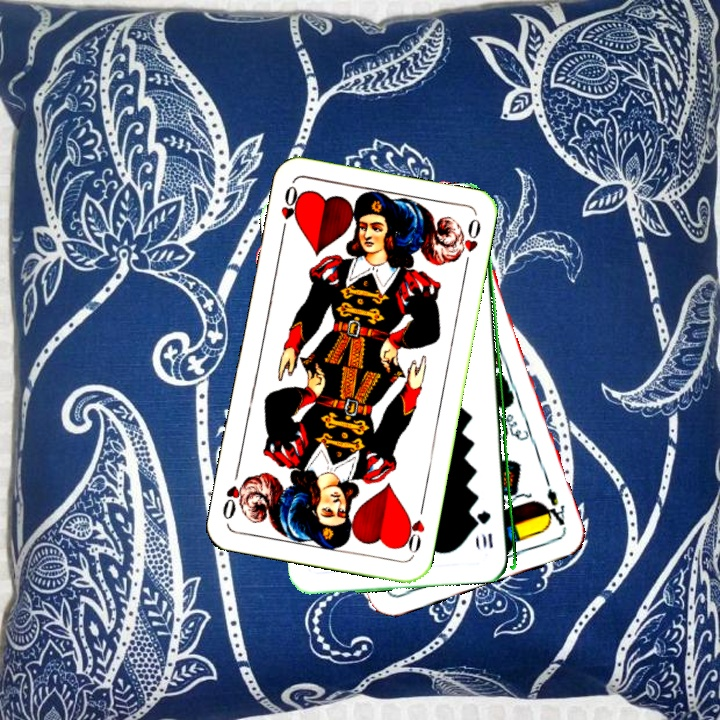EA: (538, 484, 569, 533)
G10: (477, 507, 495, 551)
HO: (399, 499, 428, 558), (276, 181, 303, 239)
